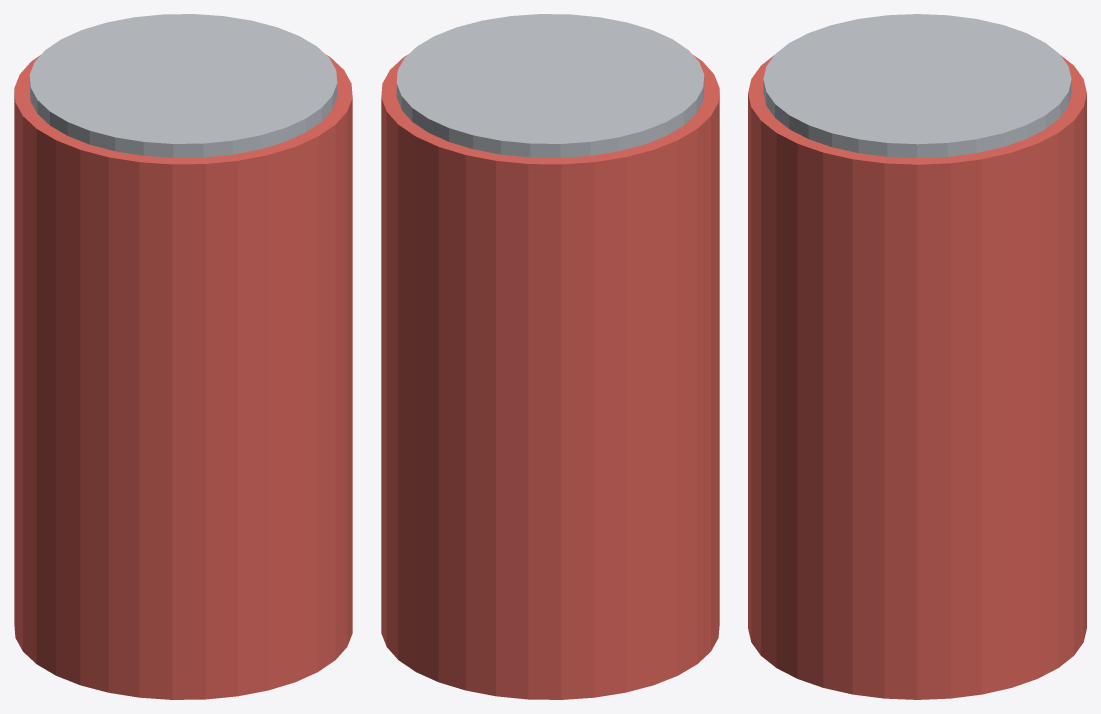
Rendered from can.glb.
The picture shows the model from 3 angles, left to right: view 1: azimuth 30°, elevation 25°; view 2: azimuth 150°, elevation 25°; view 3: azimuth 270°, elevation 25°; orthographic projection.
Visible parts, largest first — view 1: can_body, can_top; view 2: can_body, can_top; view 3: can_body, can_top.
Boxes of the visible parts, x1,y1,x2,y2 form: can_body: [14, 55, 352, 699]; can_top: [29, 14, 337, 157]; can_body: [381, 55, 719, 699]; can_top: [396, 14, 704, 157]; can_body: [748, 55, 1086, 699]; can_top: [763, 14, 1071, 158].
Size of the model in its own units: 0.066 by 0.118 by 0.066.
